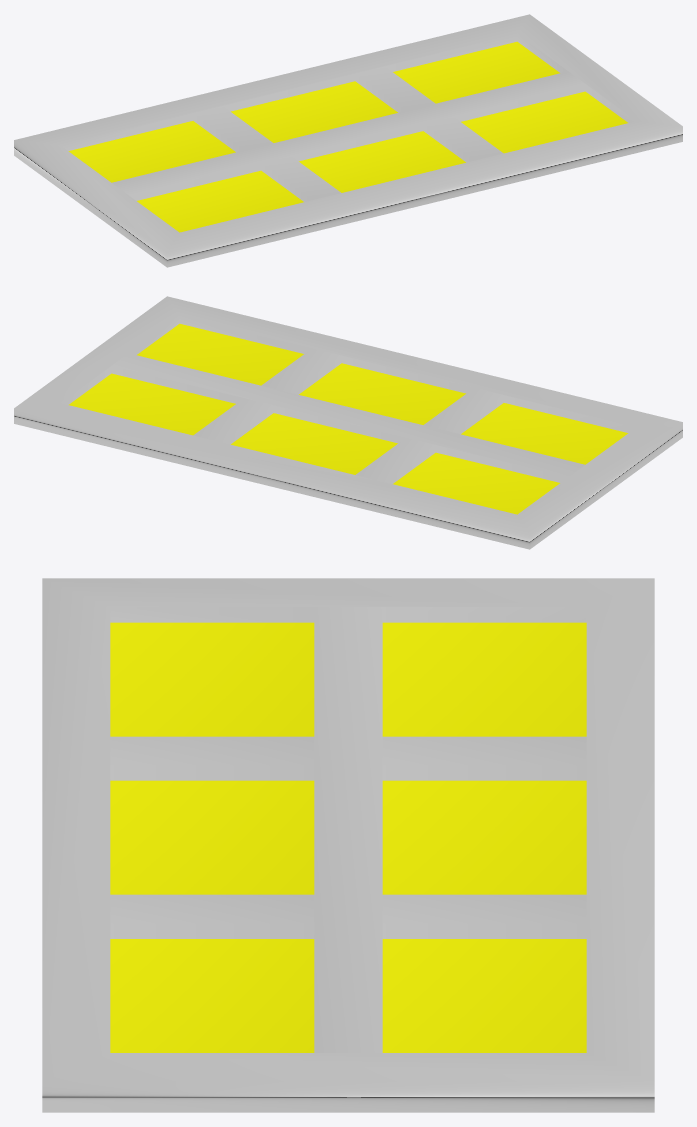
The model's file is kitE.fbx.
The picture shows the model from 3 angles, top to bottom: view 1: azimuth 30°, elevation 25°; view 2: azimuth 150°, elevation 25°; view 3: azimuth 270°, elevation 25°; orthographic projection. The views are drawn at different scales.
Visible parts, largest first — view 1: Cube; view 2: Cube; view 3: Cube.
Boxes of the visible parts, box(x1,y1,x2,y2) form: Cube: box(14, 14, 682, 267); Cube: box(14, 296, 682, 549); Cube: box(42, 578, 654, 1112).
Size of the model in its own units: 222 by 6.35 by 114.
